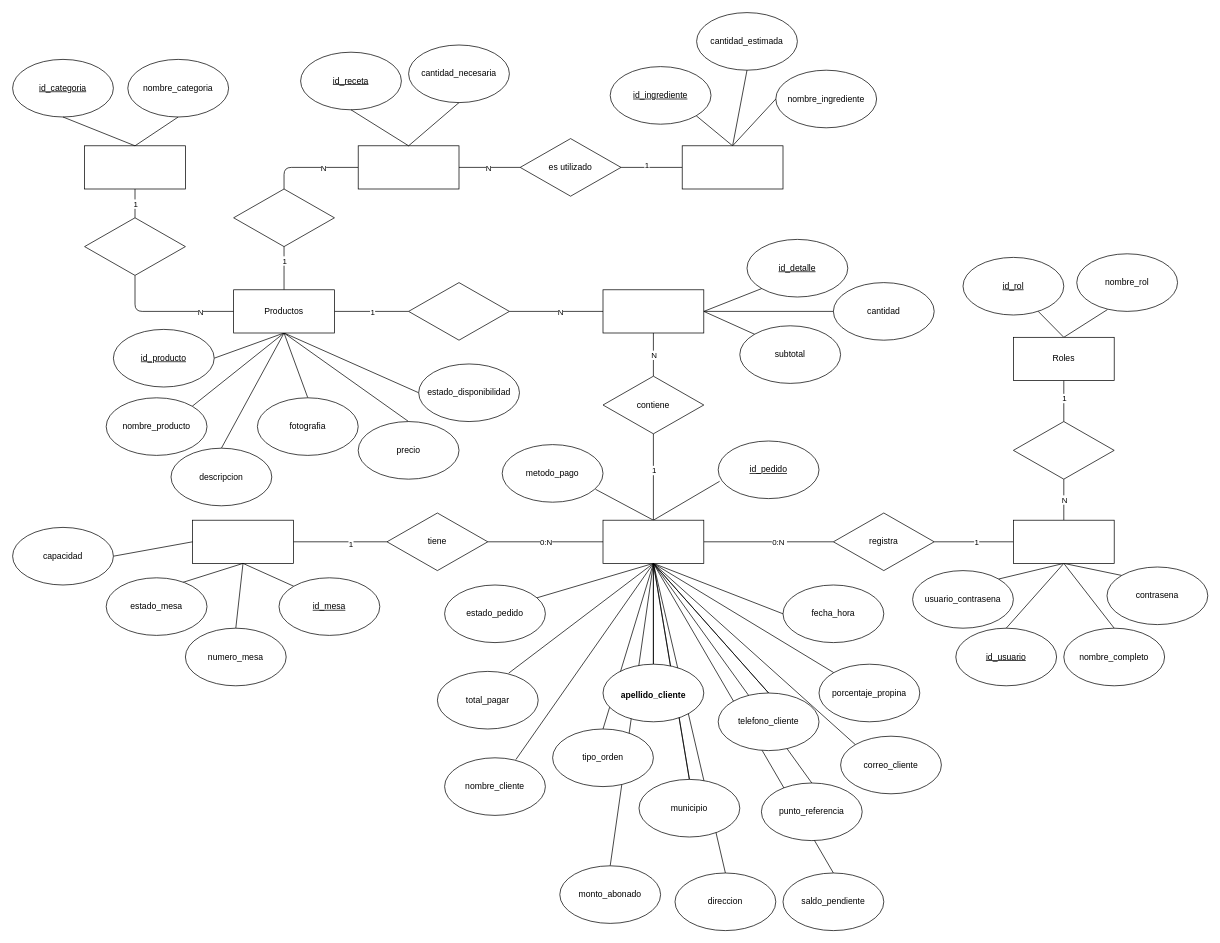
This 1220x943 diagram has some shape labels left out. The shapes that lost their labels are listed below. From the top down, each one's centre as x and y in pixels, then its label:
point 134,167: Categorias
point 408,167: Recetas
point 732,167: Inventarios
point 283,217: se compone
point 134,246: clasifica
point 458,311: se incluye
point 653,311: Detalle_Pedidos
point 1063,450: agrupa
point 242,541: Mesas
point 653,541: Pedidos
point 1063,541: Usuarios
